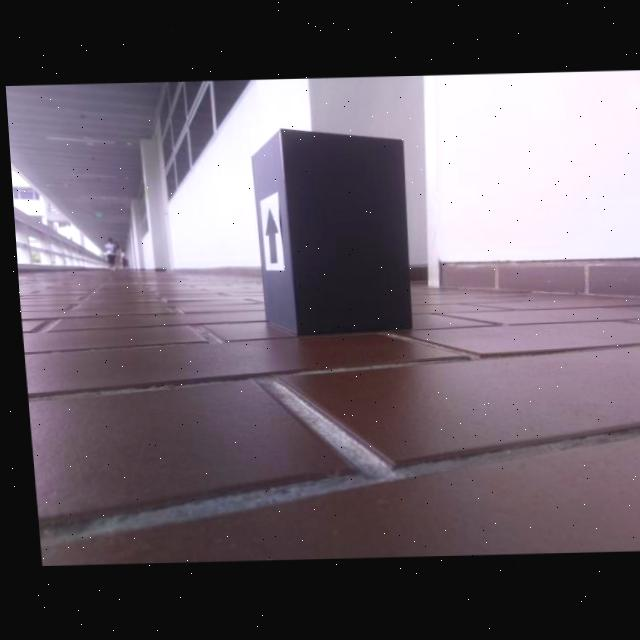UP: (261, 207, 275, 265)
